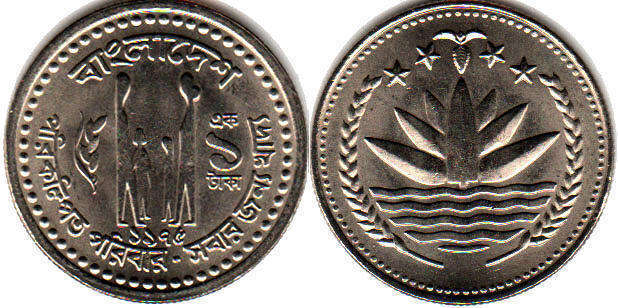2 taka coin: (314, 3, 618, 303), (3, 2, 306, 302)
